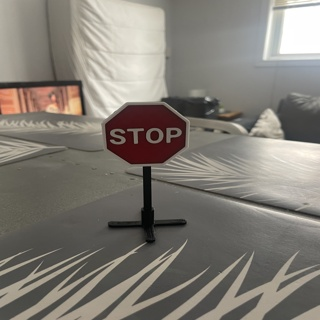sign_stop: (99, 99, 189, 164)
